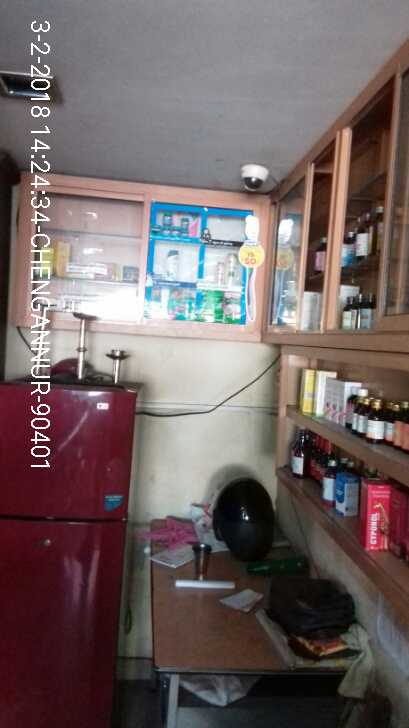vicks: (158, 207, 193, 237)
